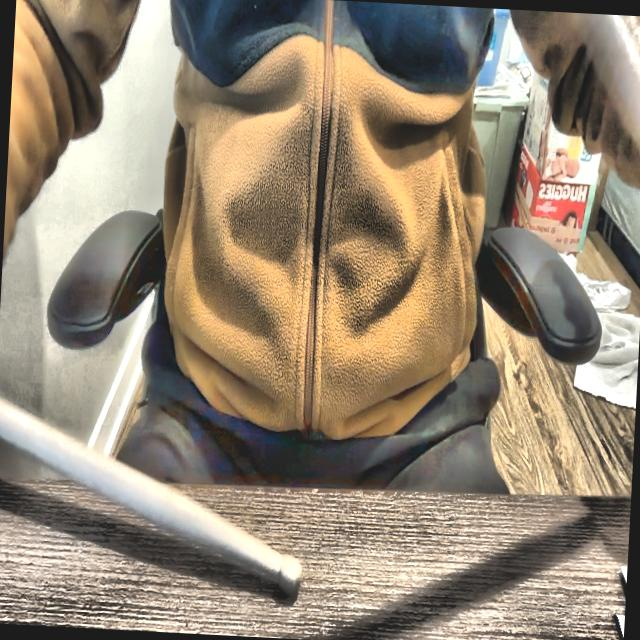Drumstick-Heads: (275, 550, 305, 596)
